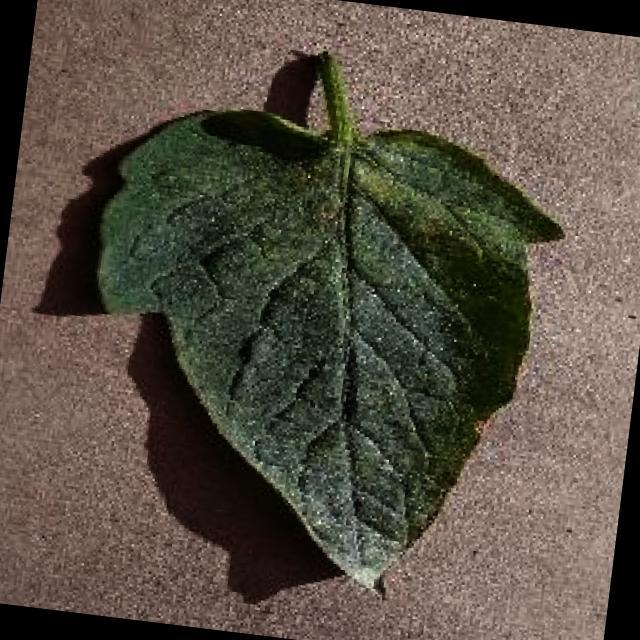Tomato spider mites leaf: (57, 88, 575, 614)
